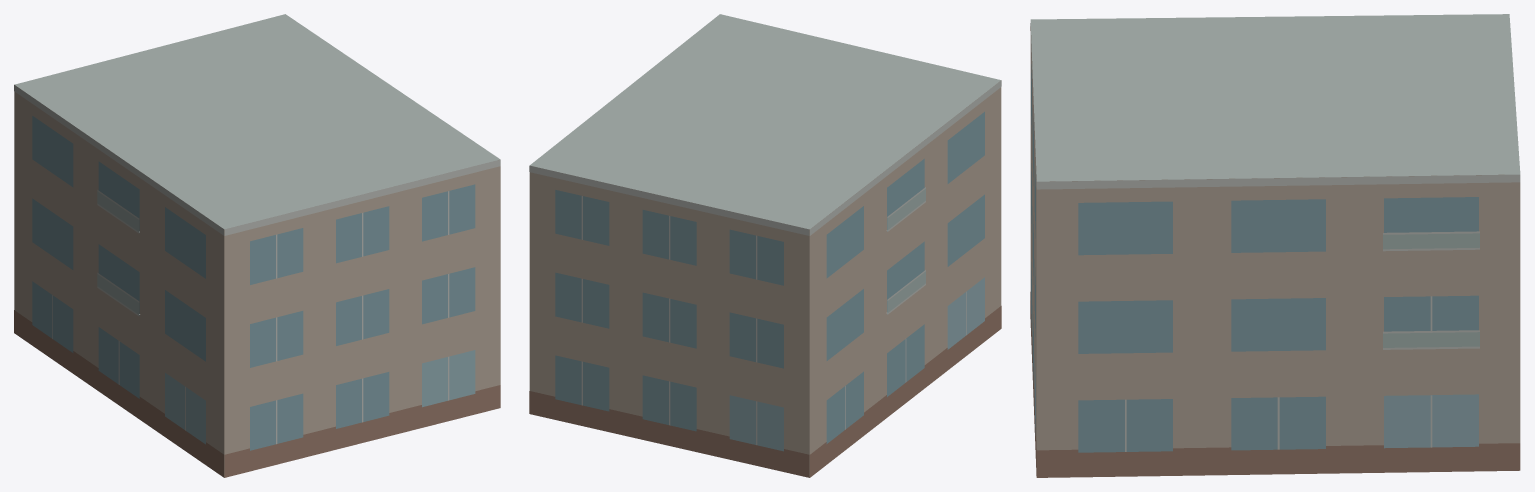
The model's file is survey-upis-32726148.glb.
3 renders of one model, left to right at view 1: azimuth 30°, elevation 25°; view 2: azimuth 150°, elevation 25°; view 3: azimuth 270°, elevation 25°, orthographic. The views are drawn at different scales.
Parts seen in each view (by area): view 1: survey-upis-32726148.tmp; view 2: survey-upis-32726148.tmp; view 3: survey-upis-32726148.tmp.
Boxes of the visible parts, box(x1,y1,x2,y2) form: survey-upis-32726148.tmp: box(14, 14, 500, 477); survey-upis-32726148.tmp: box(529, 14, 1001, 477); survey-upis-32726148.tmp: box(1030, 14, 1520, 477).
Size of the model in its own units: 11.11 by 9.15 by 13.73.
